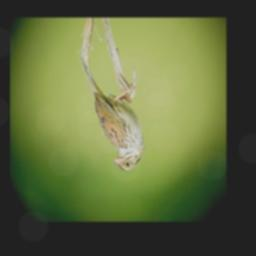Sparrow: (90, 69, 145, 175)
